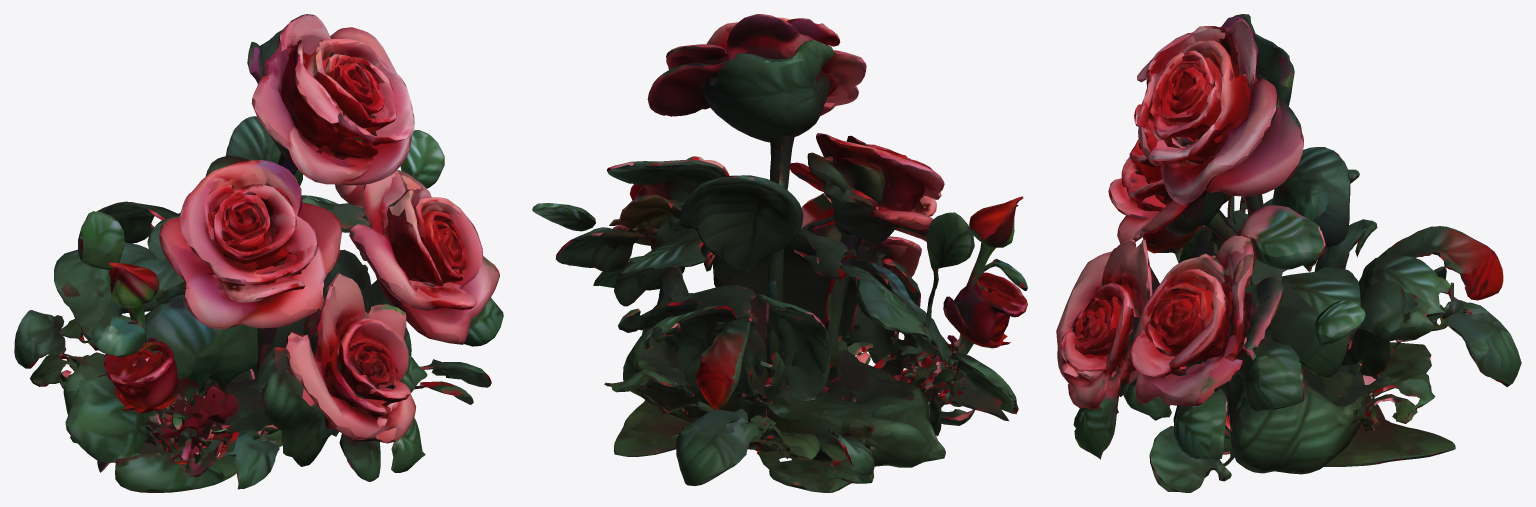
3 renders of one model, left to right at view 1: azimuth 30°, elevation 25°; view 2: azimuth 150°, elevation 25°; view 3: azimuth 270°, elevation 25°, orthographic. The views are drawn at different scales.
Visible parts, largest first — view 1: tmpqul7y_as.ply; view 2: tmpqul7y_as.ply; view 3: tmpqul7y_as.ply.
Part boxes in pixels (x1,y1,x2,y2): tmpqul7y_as.ply: (14, 14, 503, 492); tmpqul7y_as.ply: (532, 14, 1027, 492); tmpqul7y_as.ply: (1056, 14, 1521, 492).
Bounding box in the file's own units: 1.99 × 1.76 × 1.8.
1 material, 1 textured.
